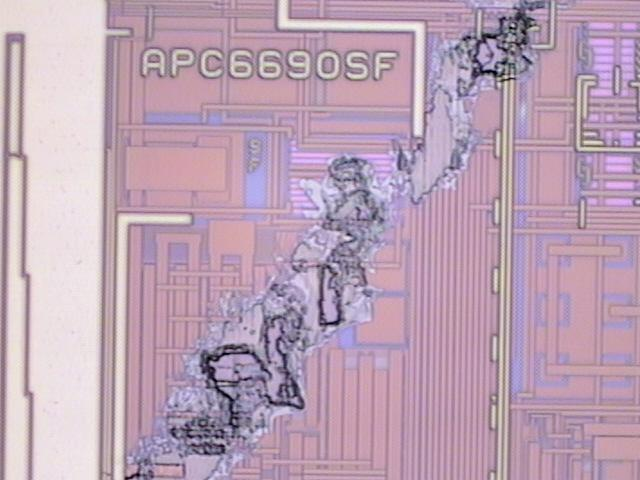SCRATCH: (110, 2, 579, 480)
